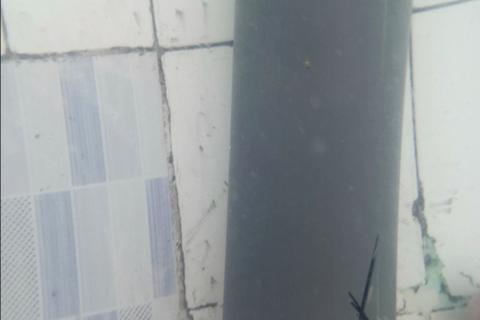keretakan: (345, 233, 380, 320)
